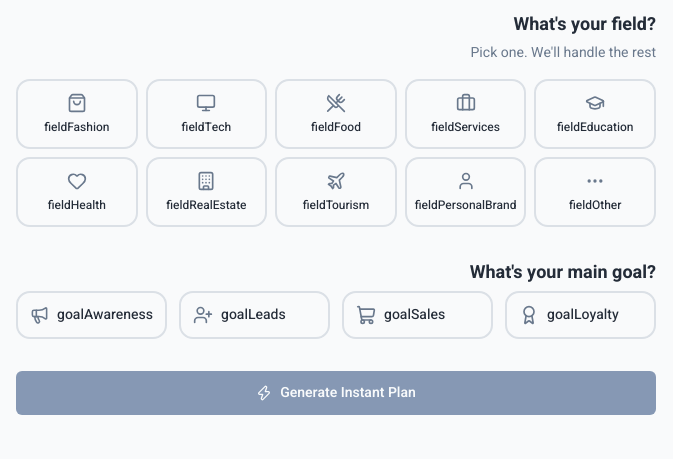
Test: ExpressWizard › Generate button becomes enabled after selecting field and goal
Click the button "fieldTech".
click(206, 114)  # box [146,79,267,149]
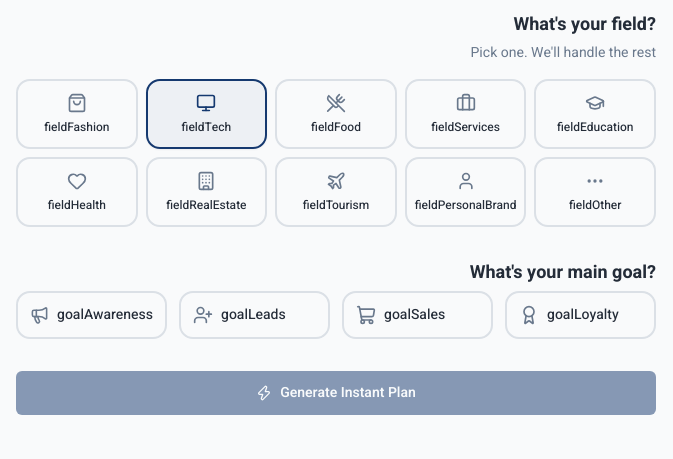
Click the button "goalLeads".
click(254, 315)  # box [179,291,330,339]
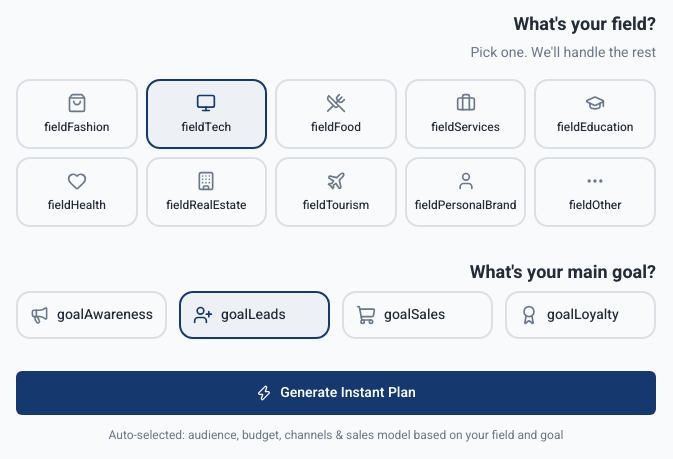
Expected: the button "Generate Instant Plan" is enabled, [16,371,656,415]
